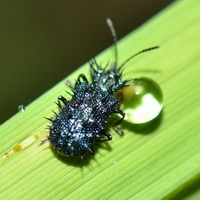insect: (46, 18, 162, 158)
